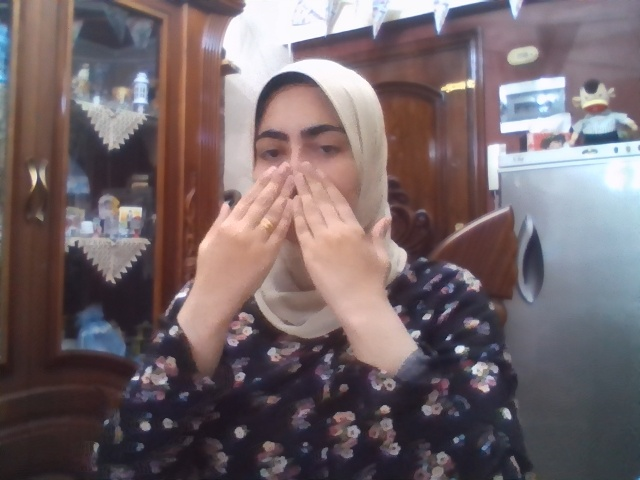thanks: (190, 161, 391, 294)
